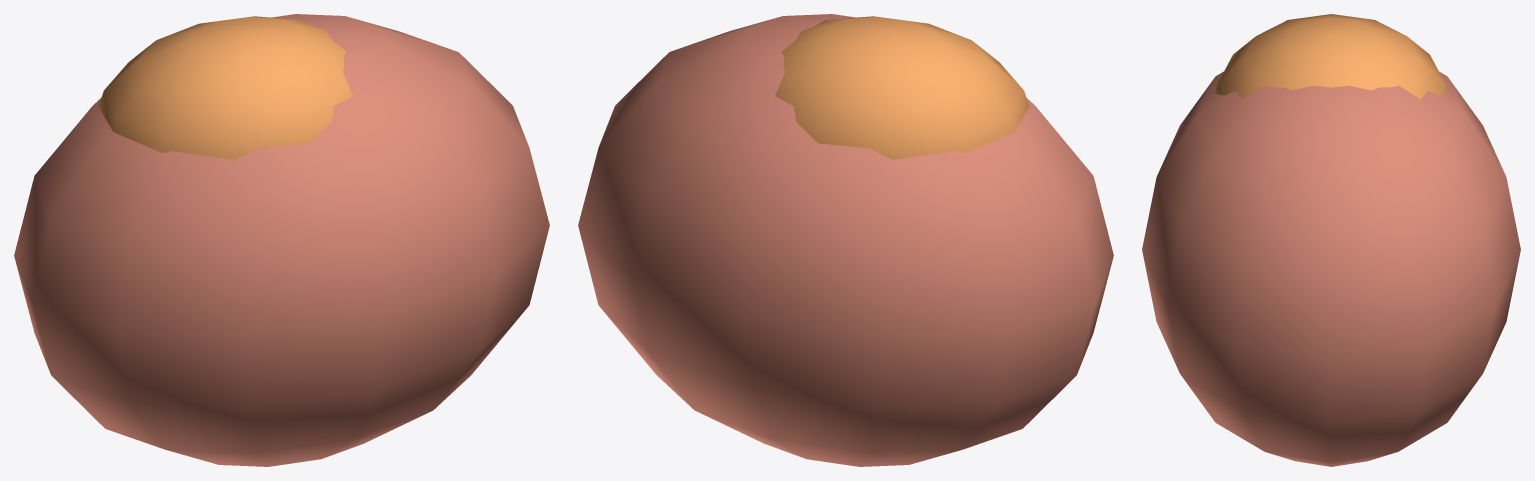
The model's file is desert_rock-procedural.glb.
The picture shows the model from 3 angles, left to right: view 1: azimuth 30°, elevation 25°; view 2: azimuth 150°, elevation 25°; view 3: azimuth 270°, elevation 25°; orthographic projection. The views are drawn at different scales.
Parts seen in each view (by area): view 1: rock, rock_top; view 2: rock, rock_top; view 3: rock, rock_top.
Part boxes in pixels (x1,y1,x2,y2): rock: [14, 14, 549, 466]; rock_top: [98, 16, 352, 159]; rock: [578, 14, 1113, 466]; rock_top: [775, 16, 1029, 159]; rock: [1142, 71, 1520, 466]; rock_top: [1214, 14, 1448, 99].
Bounding box in the file's own units: 5.6 × 4.51 × 4.
